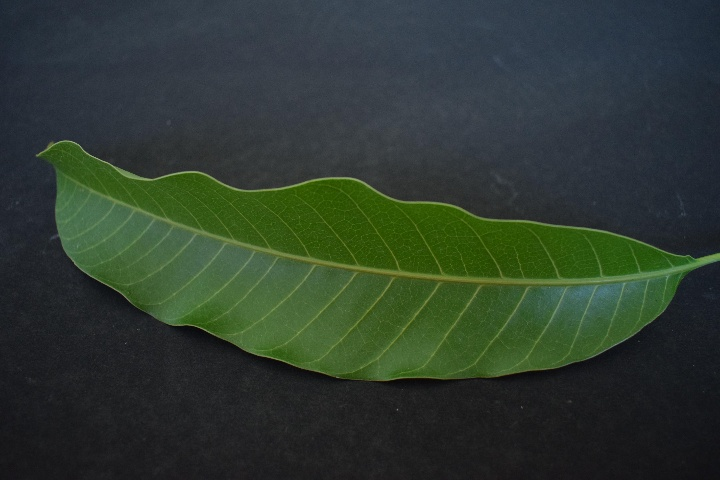healthy: (39, 136, 672, 393)
